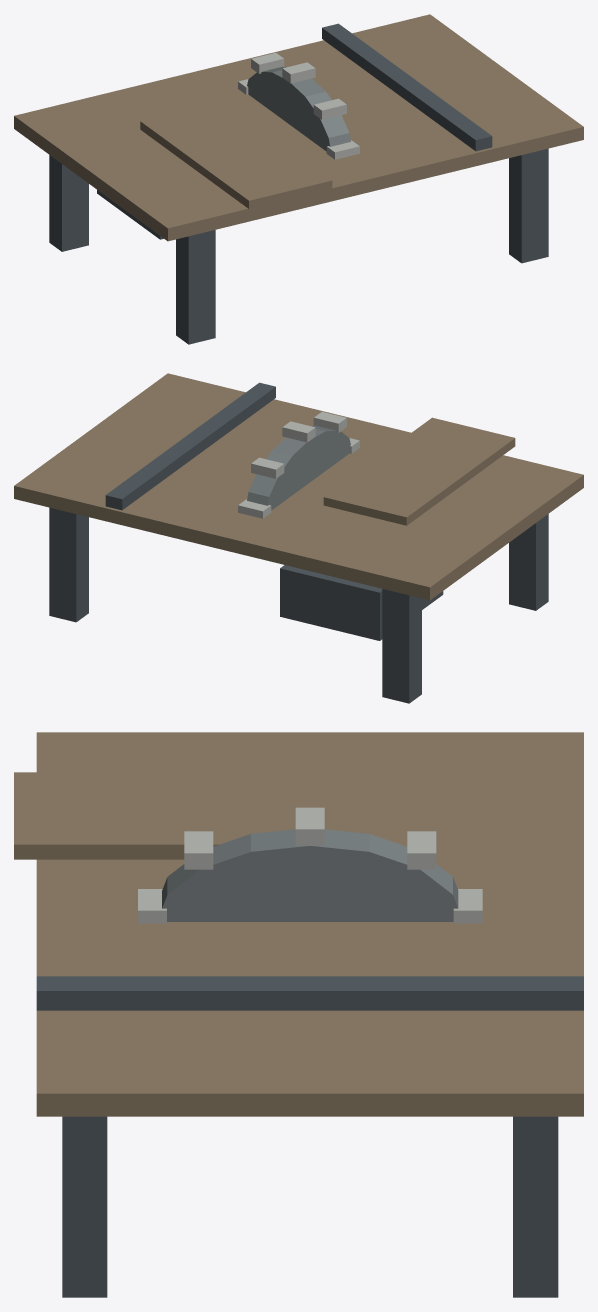
Rendered from circular_saw_bench.glb.
3 views of the same model, one above another, from view 1: azimuth 30°, elevation 25°; view 2: azimuth 150°, elevation 25°; view 3: azimuth 270°, elevation 25° (orthographic). The views are drawn at different scales.
Parts seen in each view (by area): view 1: circular_saw_bench; view 2: circular_saw_bench; view 3: circular_saw_bench.
Boxes of the visible parts, x1=… form: circular_saw_bench: x1=14, y1=14, x2=583, y2=344; circular_saw_bench: x1=14, y1=373, x2=583, y2=703; circular_saw_bench: x1=14, y1=732, x2=583, y2=1297.
Size of the model in its own units: 2.88 by 1.2 by 1.92.
